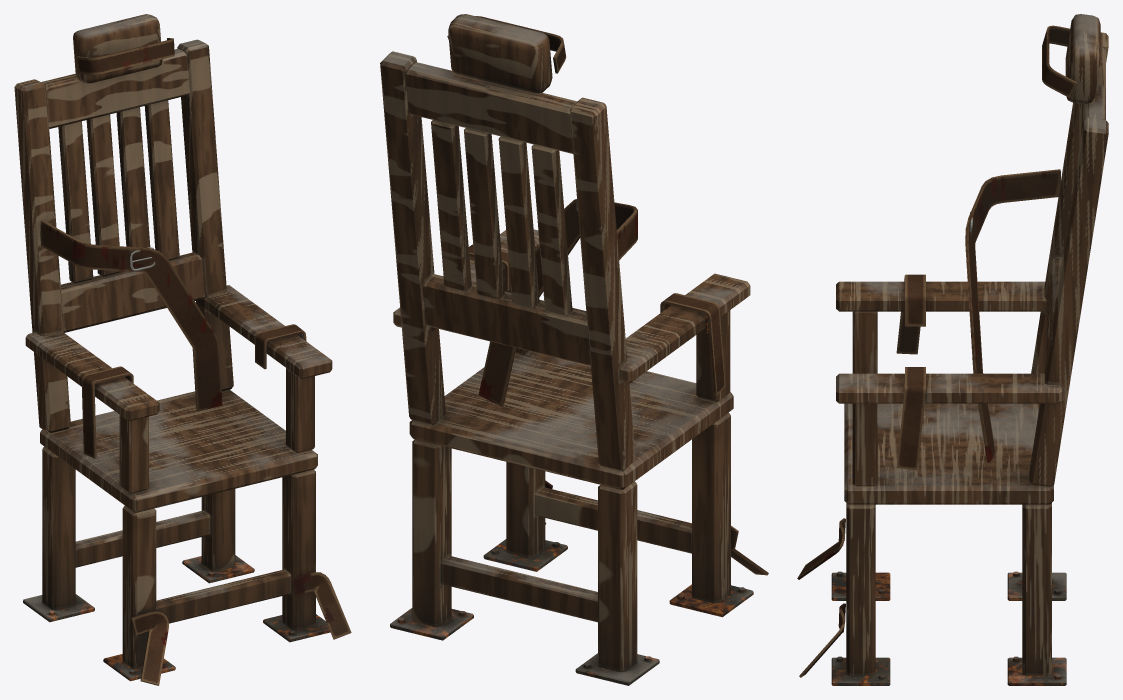
The model's file is RestraintChair.fbx.
3 views of the same model, side by side, from view 1: azimuth 30°, elevation 25°; view 2: azimuth 150°, elevation 25°; view 3: azimuth 270°, elevation 25° (orthographic). The views are drawn at different scales.
Visible parts, largest first — view 1: RestraintChair; view 2: RestraintChair; view 3: RestraintChair.
Boxes of the visible parts, x1,y1,x2,y2 form: RestraintChair: (14,14,351,685); RestraintChair: (380,14,768,685); RestraintChair: (797,14,1108,685).
Size of the model in its own units: 1.98 by 4.73 by 2.23.
Materials: 1 (1 with a texture image).
